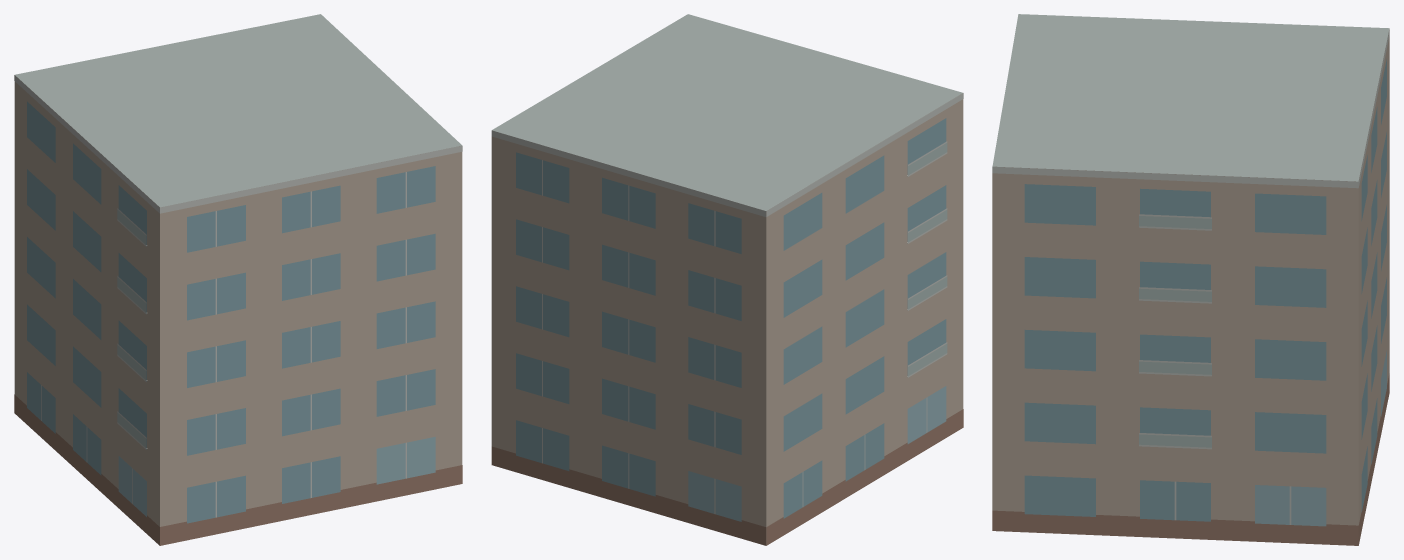
File: survey-upis-33018261.glb
3 renders of one model, left to right at view 1: azimuth 30°, elevation 25°; view 2: azimuth 150°, elevation 25°; view 3: azimuth 270°, elevation 25°, orthographic. The views are drawn at different scales.
Visible parts, largest first — view 1: survey-upis-33018261.tmp; view 2: survey-upis-33018261.tmp; view 3: survey-upis-33018261.tmp.
Part boxes in pixels (left/top/right/bottom): survey-upis-33018261.tmp: left=14, top=14, right=462, bottom=545; survey-upis-33018261.tmp: left=491, top=14, right=963, bottom=545; survey-upis-33018261.tmp: left=992, top=14, right=1389, bottom=545.
Bounding box in the file's own units: 13.13 × 13.3 × 13.15.
